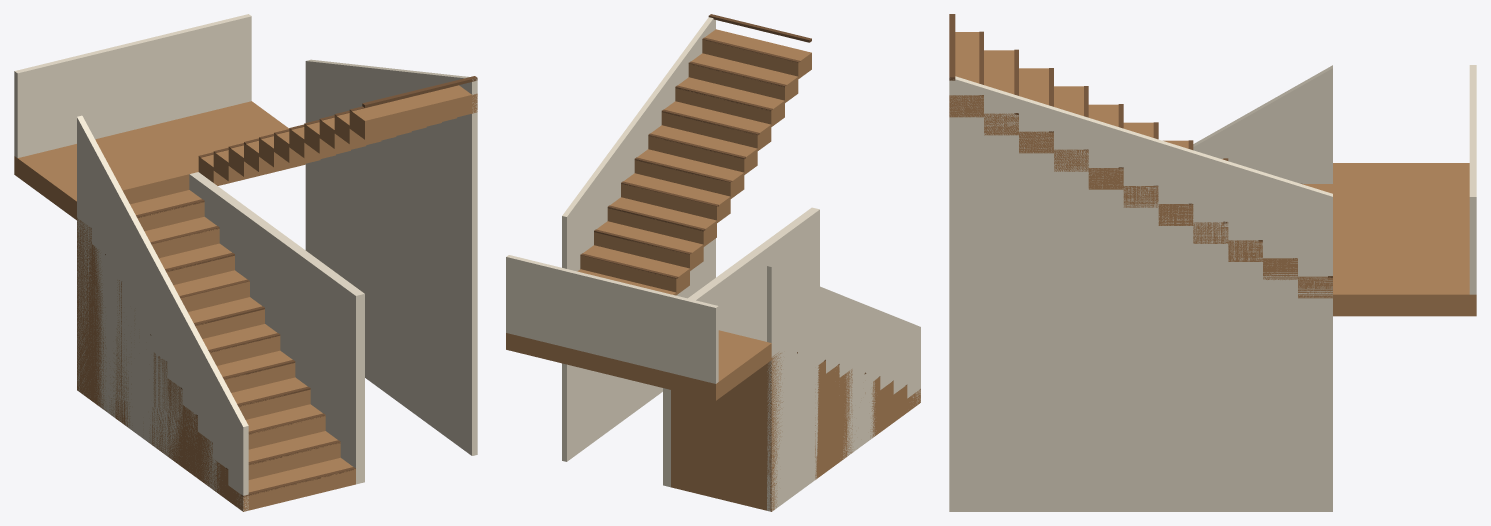
The model's file is stair_u.glb.
3 renders of one model, left to right at view 1: azimuth 30°, elevation 25°; view 2: azimuth 150°, elevation 25°; view 3: azimuth 270°, elevation 25°, orthographic. The views are drawn at different scales.
Parts seen in each view (by area): view 1: FURN-stair_u; view 2: FURN-stair_u; view 3: FURN-stair_u.
Part boxes in pixels (x1,y1,x2,y2): FURN-stair_u: [14, 14, 477, 511]; FURN-stair_u: [506, 14, 920, 511]; FURN-stair_u: [949, 14, 1476, 511].
Bounding box in the file's own units: 2.6 × 4 × 4.4.
